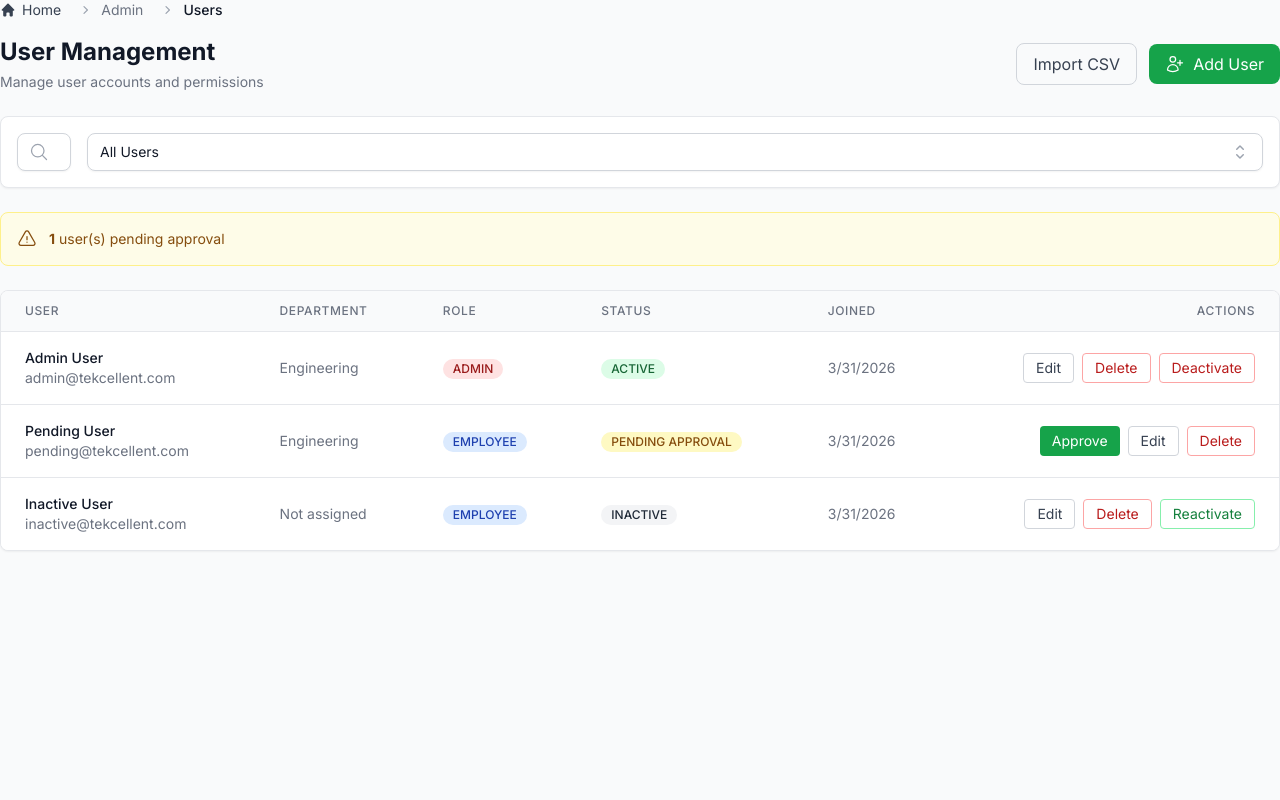
it: UsersPage › Deactivate User › should open confirmation modal when clicking Deactivate
Click the button "Deactivate": (1207, 368) [1158,353,1255,383]
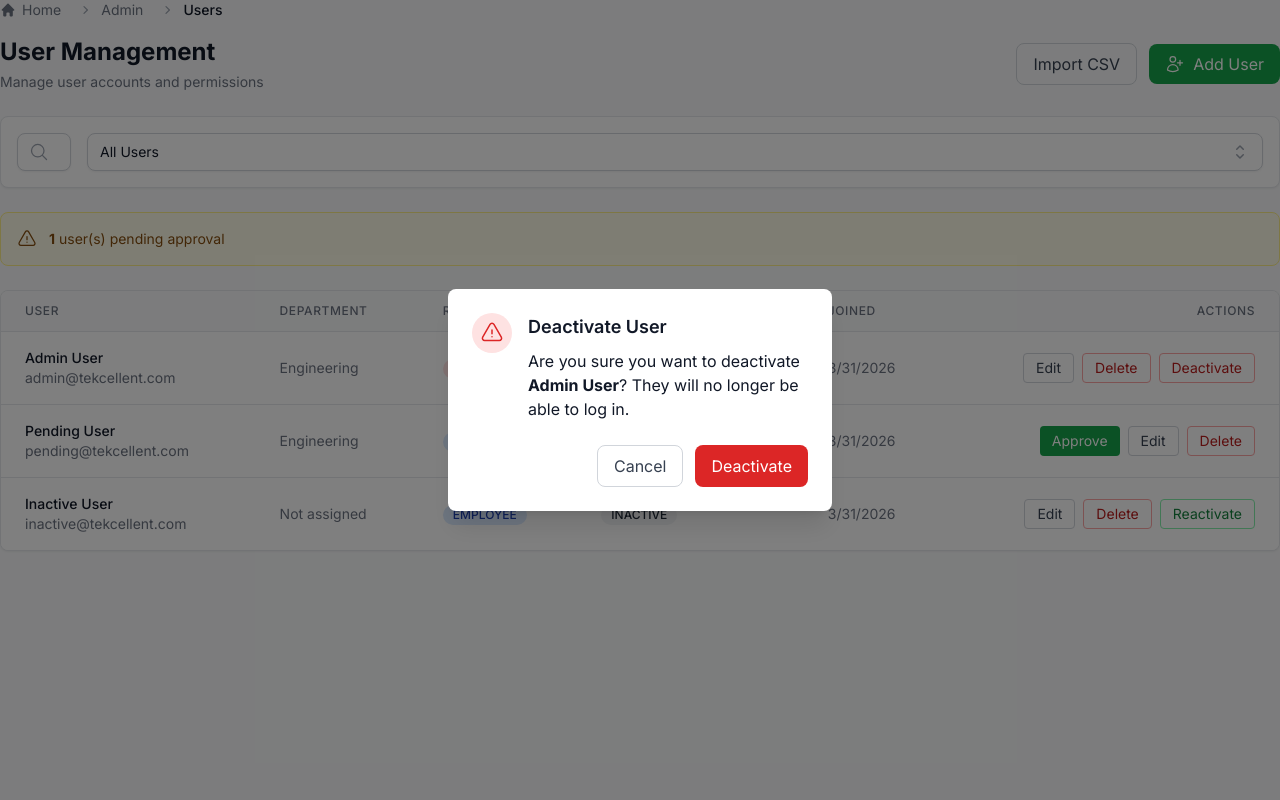
Now the text "Are you sure you want to deactivate" is shown, box [528,351,800,371]
